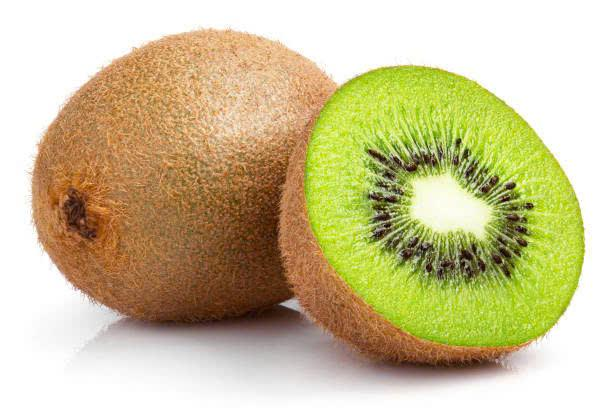kiwi: (275, 60, 587, 370), (27, 23, 276, 335)
